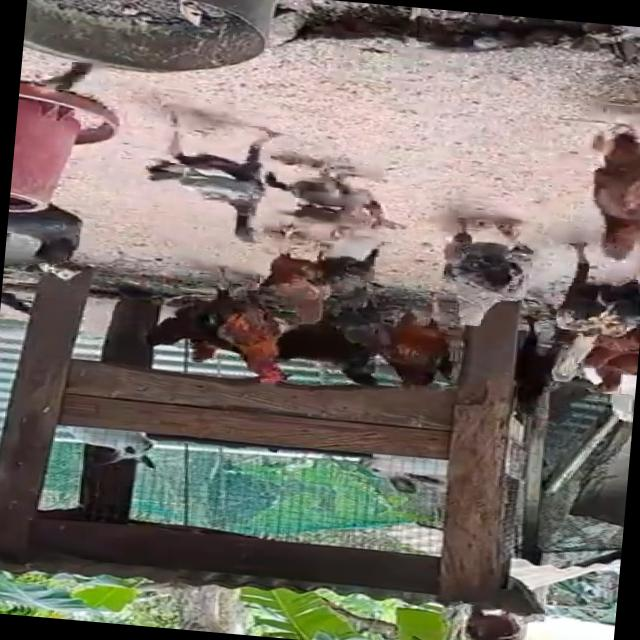running: (128, 100, 288, 247), (188, 267, 326, 391), (535, 232, 640, 391), (274, 160, 440, 254), (426, 209, 535, 307)
